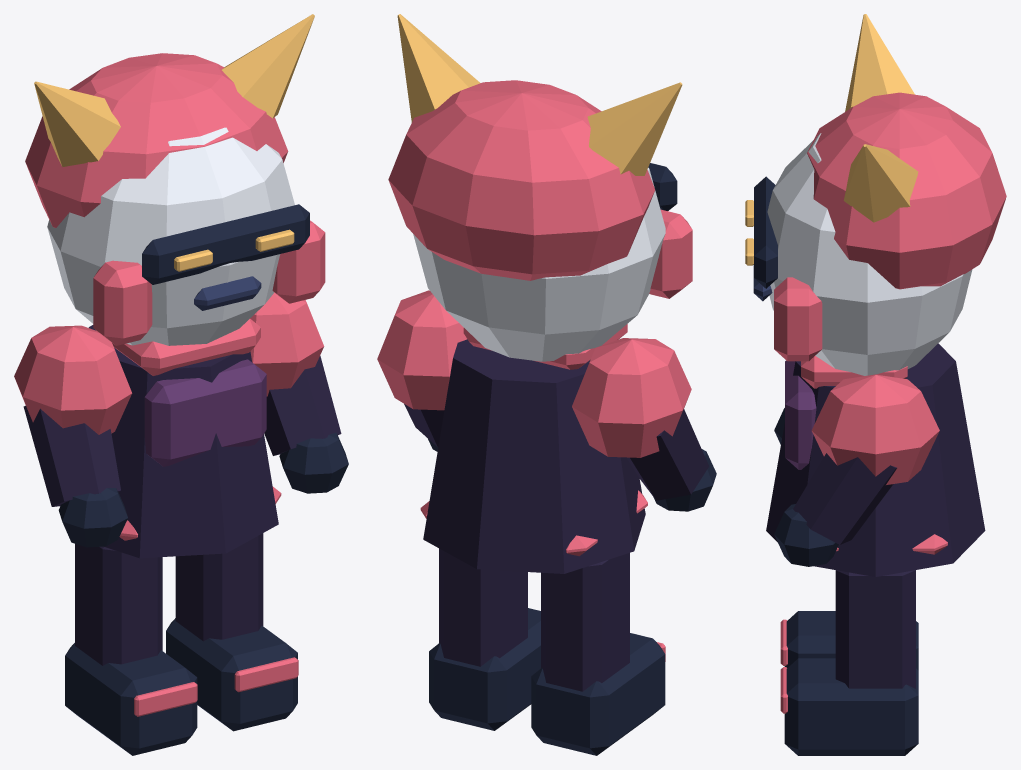
Rendered from enemy.glb.
3 renders of one model, left to right at view 1: azimuth 30°, elevation 25°; view 2: azimuth 150°, elevation 25°; view 3: azimuth 270°, elevation 25°, orthographic. The views are drawn at different scales.
Visible parts, largest first — view 1: face.001, helmet, tunic.001, chest plate.001, leg.002, shoulder.002, boot.002, boot.003, leg.003, visor, sleeve.002, shoulder.003 (+13 smaller); view 2: helmet, tunic.001, face.001, shoulder.002, leg.002, boot.002, leg.003, boot.003, shoulder.003, horn, horn.001, sleeve.002 (+6 smaller); view 3: helmet, face.001, tunic.001, boot.003, shoulder.003, leg.003, sleeve.003, horn.001, cheek armor.001, horn, chest plate.001, boot.002 (+4 smaller).
Boxes of the visible parts, left/top/right/bottom form: face.001: left=47, top=127, right=294, bottom=345; helmet: left=25, top=53, right=288, bottom=227; tunic.001: left=88, top=325, right=278, bottom=558; chest plate.001: left=144, top=359, right=266, bottom=466; leg.002: left=75, top=544, right=162, bottom=665; shoulder.002: left=14, top=325, right=132, bottom=434; boot.002: left=65, top=643, right=197, bottom=755; boot.003: left=166, top=618, right=297, bottom=731; leg.003: left=175, top=533, right=263, bottom=641; visor: left=142, top=204, right=309, bottom=284; sleeve.002: left=23, top=405, right=120, bottom=506; shoulder.003: left=250, top=293, right=324, bottom=396; helmet: left=388, top=80, right=654, bottom=280; tunic.001: left=423, top=339, right=645, bottom=573; face.001: left=413, top=167, right=665, bottom=361; shoulder.002: left=572, top=338, right=691, bottom=457; leg.002: left=541, top=553, right=629, bottom=691; boot.002: left=531, top=633, right=665, bottom=755; leg.003: left=439, top=548, right=527, bottom=666; boot.003: left=429, top=608, right=540, bottom=730; shoulder.003: left=377, top=290, right=466, bottom=410; horn: left=587, top=82, right=682, bottom=175; horn.001: left=397, top=14, right=480, bottom=122; sleeve.002: left=626, top=409, right=708, bottom=500; helmet: left=807, top=92, right=1006, bottom=289; face.001: left=767, top=133, right=972, bottom=375; tunic.001: left=766, top=343, right=985, bottom=576; boot.003: left=784, top=658, right=918, bottom=755; shoulder.003: left=811, top=374, right=939, bottom=484; leg.003: left=835, top=570, right=915, bottom=688; sleeve.003: left=793, top=453, right=896, bottom=544; horn.001: left=843, top=144, right=918, bottom=222; cheek armor.001: left=774, top=277, right=822, bottom=361; horn: left=845, top=14, right=914, bottom=111; chest plate.001: left=785, top=360, right=816, bottom=469; boot.002: left=784, top=611, right=918, bottom=670.
Bounding box in the file's own units: 0.61 × 1.32 × 0.489.
